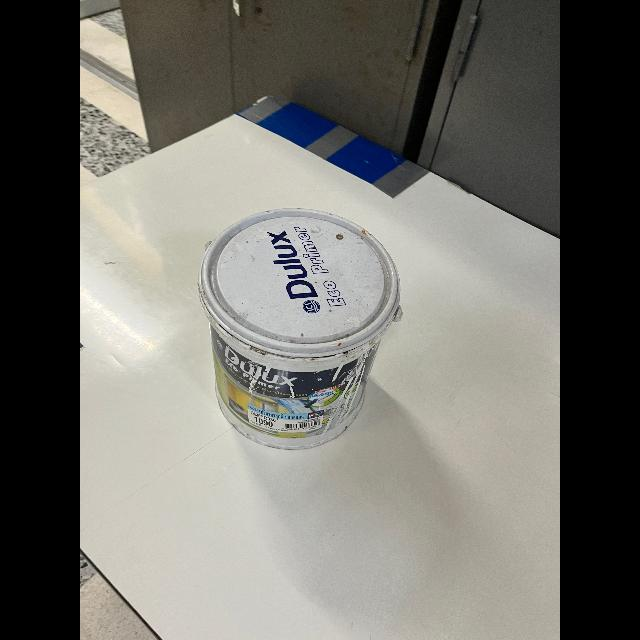paint_bucket: (188, 196, 414, 454)
